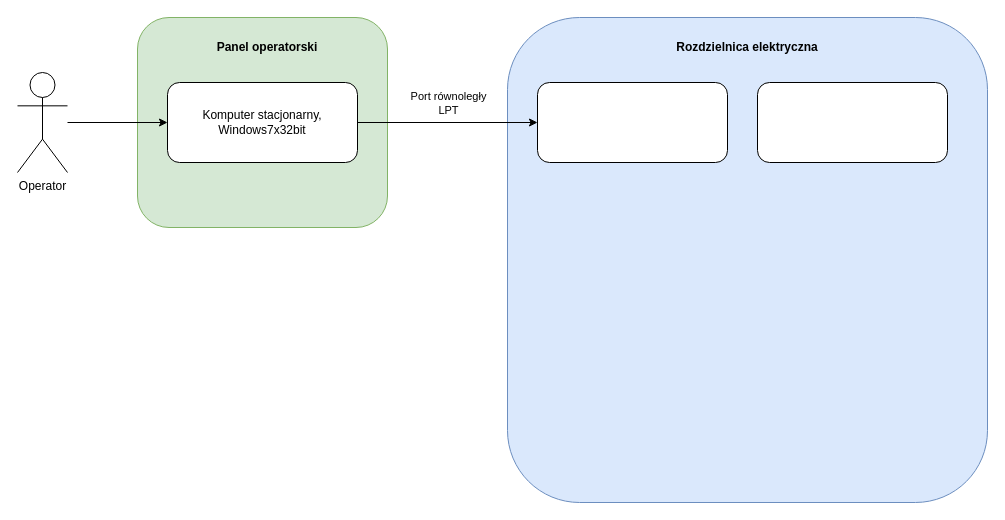
This 1005x520 diagram has some shape labels left out. The centre of each missing label's shape, as x and y in pixels:
Sterownik 5-cio osiowy CNC "5Axis Breakout Board": the point at 632,122
Sterownik silnika serwo-krokowego: the point at 852,122
